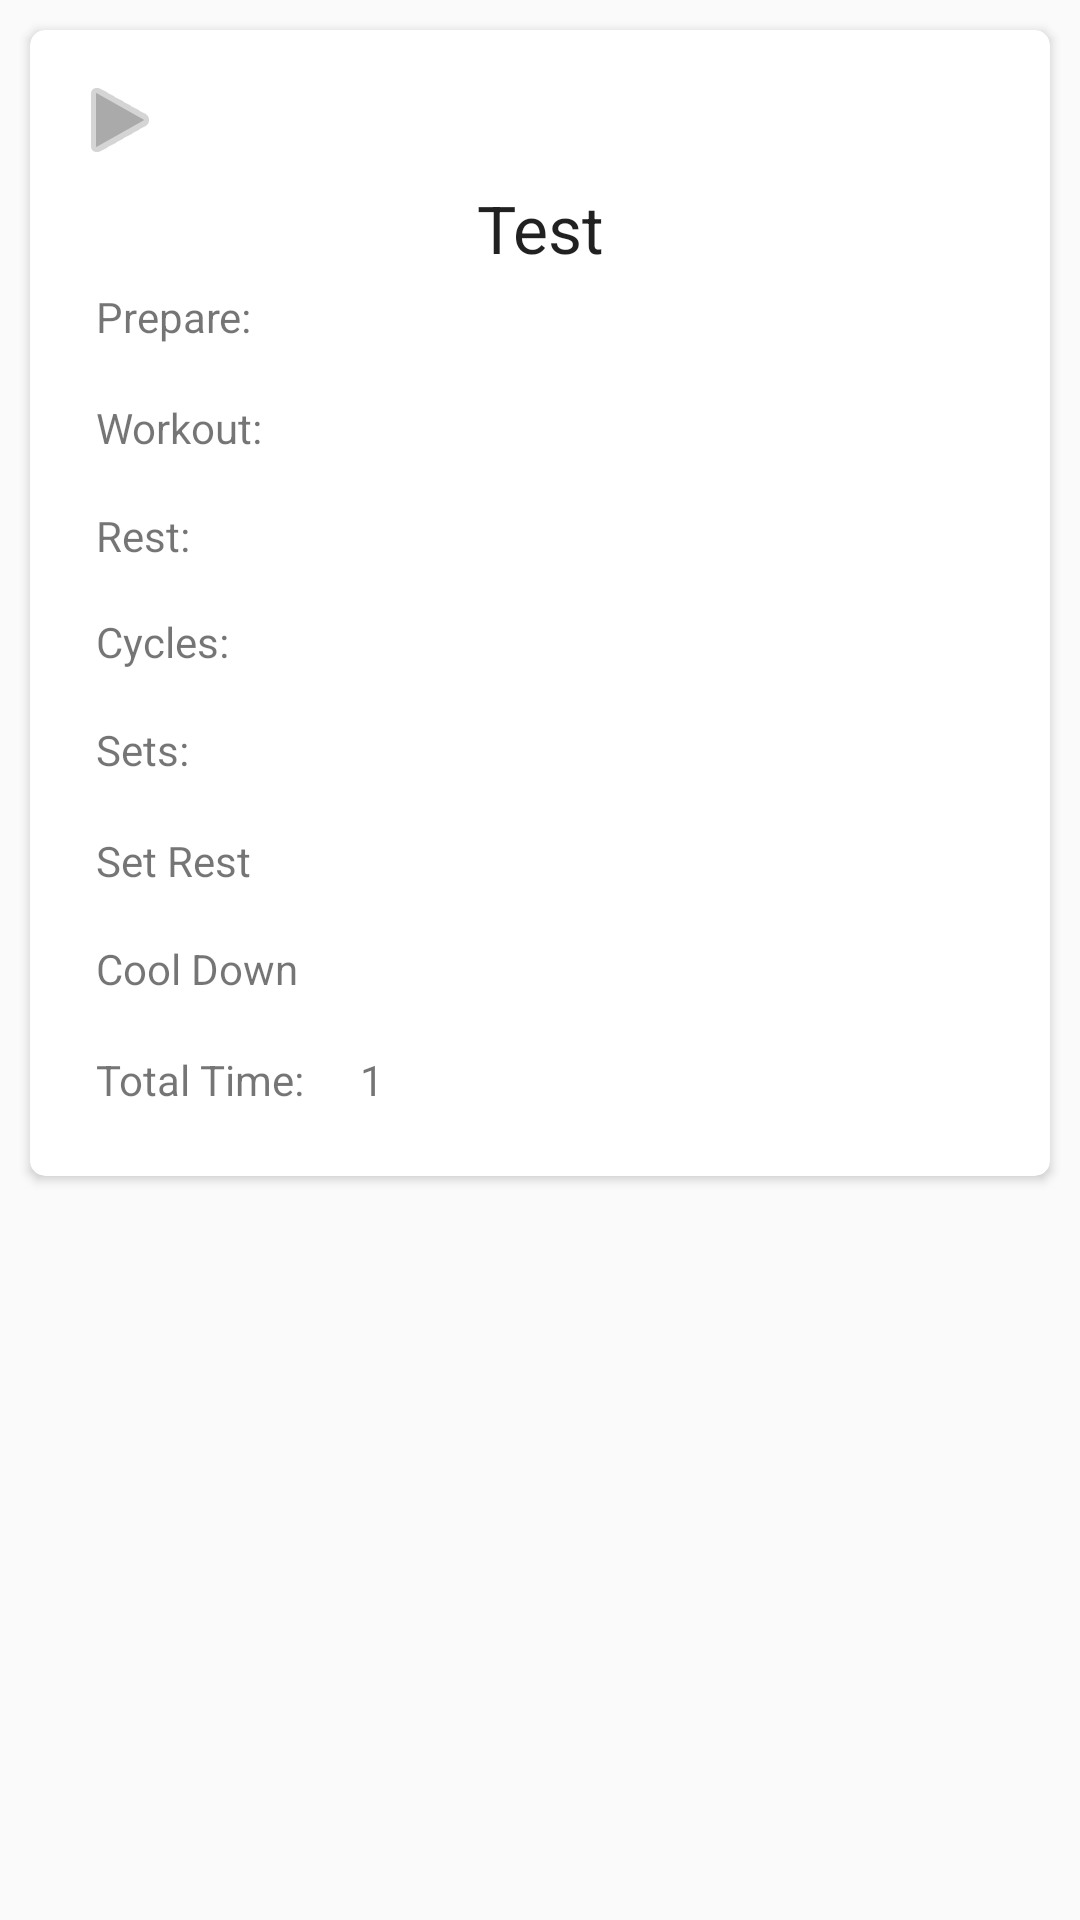

Icons on this 1080x1920 Android screen, each with its box as (x1, y1, x2, y2):
play: (91, 88, 149, 152)
